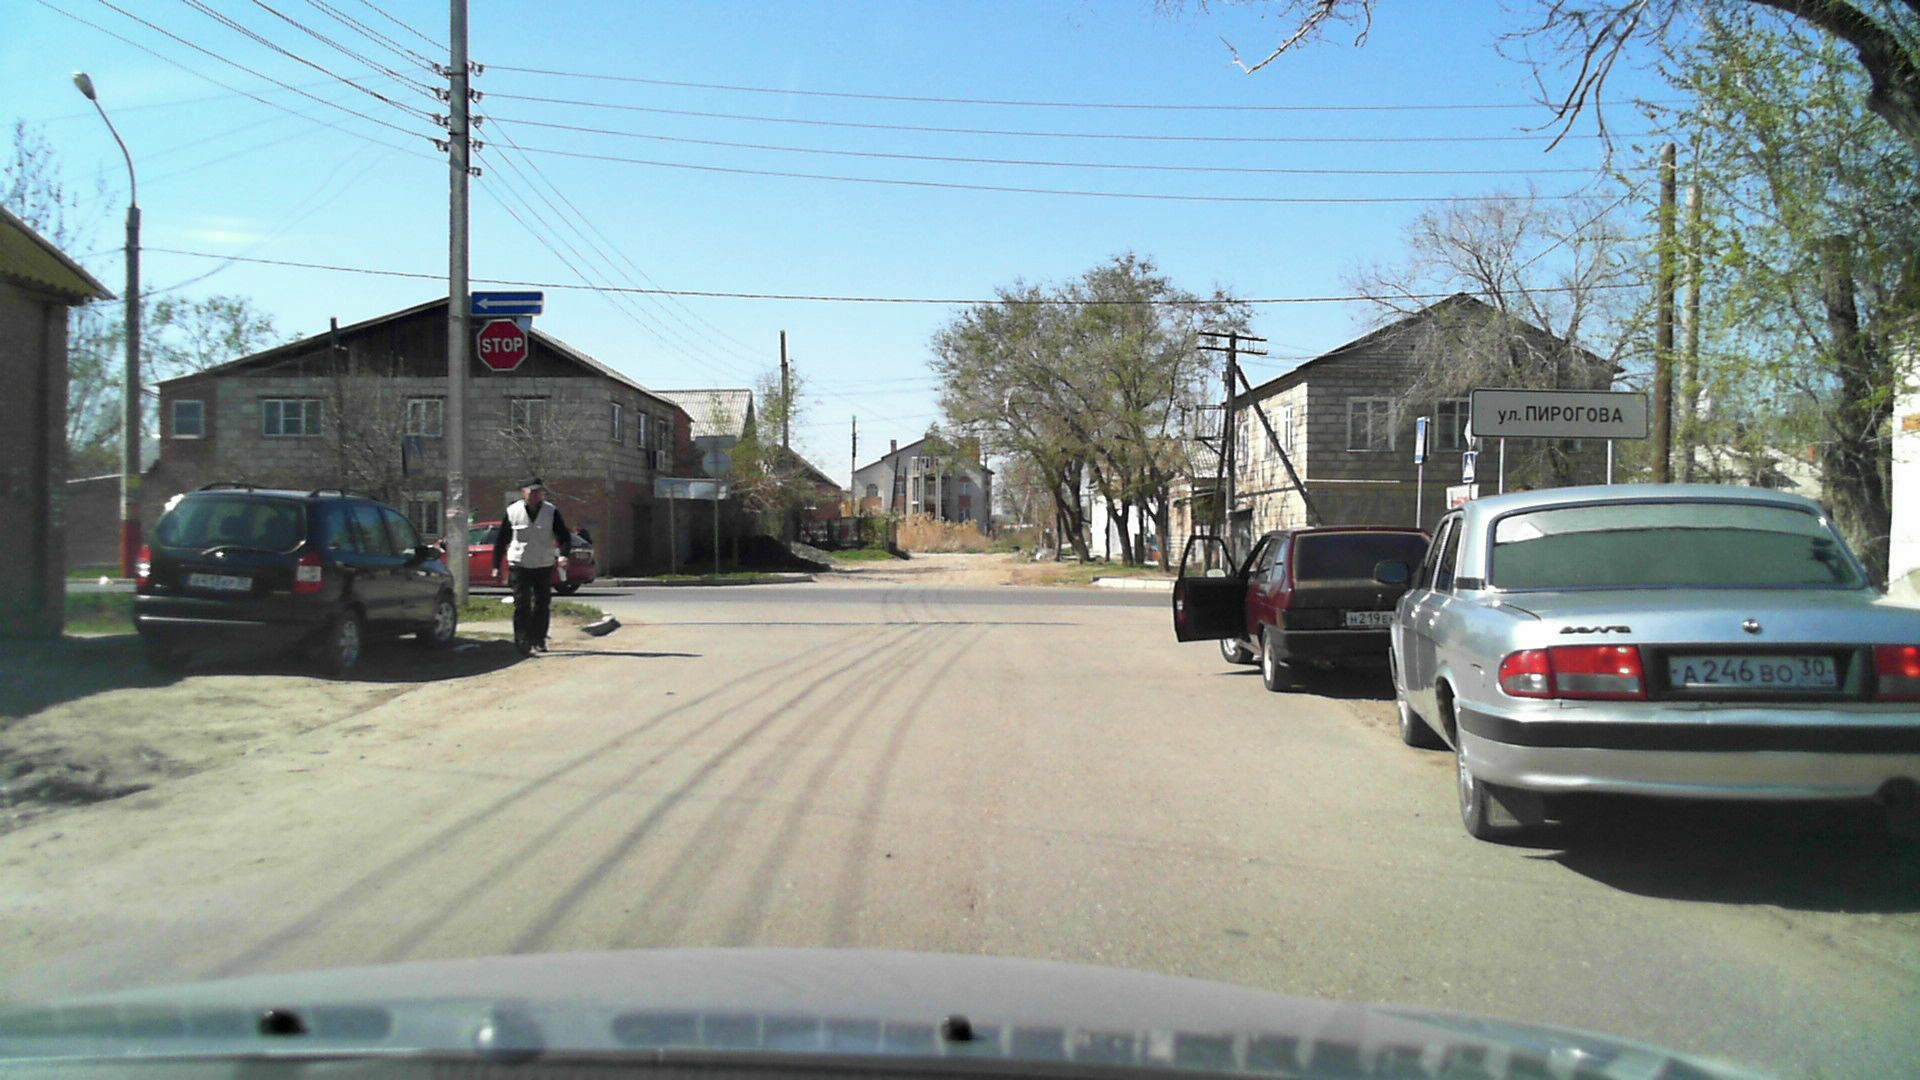One-Way Traffic: (471, 291, 545, 316)
